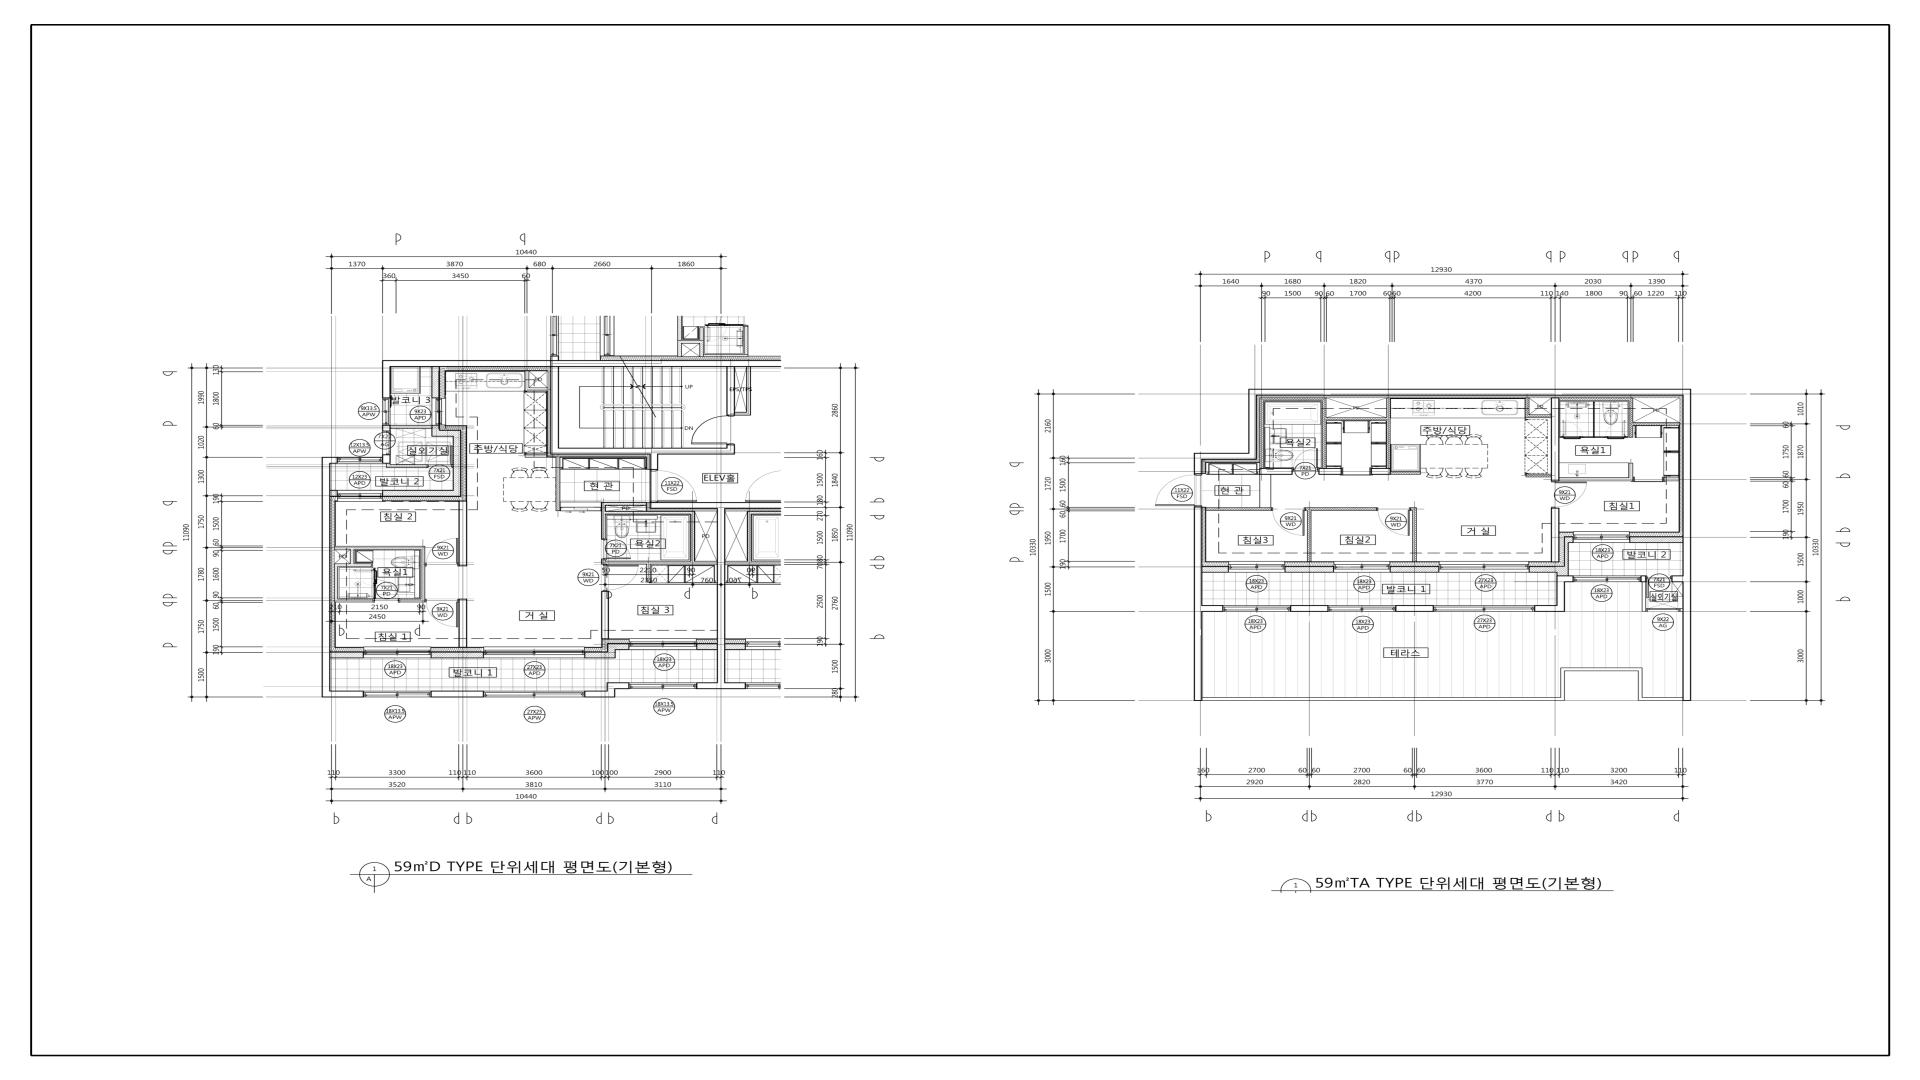door: (650, 469, 698, 502), (1155, 475, 1203, 506), (691, 415, 735, 444), (425, 599, 459, 628), (425, 538, 459, 567), (1551, 481, 1588, 508), (1377, 508, 1411, 535), (1271, 508, 1305, 535), (603, 564, 638, 591), (601, 538, 632, 559), (1292, 448, 1319, 472), (373, 579, 400, 603), (1646, 576, 1672, 599), (427, 446, 452, 468), (1605, 421, 1626, 438), (1563, 421, 1582, 438), (560, 506, 601, 512)
wall: (1257, 389, 1691, 396), (1683, 396, 1691, 702), (322, 463, 330, 698), (1193, 506, 1203, 702), (550, 360, 782, 367), (717, 509, 725, 690), (559, 448, 735, 455), (390, 360, 550, 367), (550, 367, 559, 455), (1551, 397, 1559, 481), (452, 436, 462, 497), (382, 489, 452, 497), (459, 501, 467, 566), (1249, 389, 1257, 452), (1551, 508, 1560, 562), (650, 502, 725, 509), (605, 560, 717, 564), (1203, 452, 1257, 460), (727, 367, 735, 415), (459, 599, 467, 647), (1386, 397, 1391, 468), (601, 591, 609, 638), (334, 546, 425, 550), (605, 510, 695, 514), (1321, 401, 1327, 468), (1630, 537, 1683, 543), (431, 691, 484, 698), (431, 651, 484, 658), (1390, 566, 1439, 572), (1284, 566, 1333, 572), (382, 360, 390, 398), (1559, 477, 1634, 481), (555, 456, 560, 512), (1556, 582, 1565, 612), (1259, 398, 1263, 468), (1395, 605, 1433, 612), (1290, 605, 1328, 612), (431, 367, 439, 398), (690, 514, 695, 560), (746, 367, 752, 411), (1530, 566, 1564, 572), (330, 691, 364, 698), (330, 651, 364, 658), (1259, 468, 1292, 475), (584, 691, 616, 698), (584, 651, 616, 658), (1193, 452, 1203, 475), (607, 682, 629, 691), (1307, 510, 1311, 562), (1412, 510, 1416, 562), (1559, 398, 1633, 401), (1629, 401, 1634, 438), (421, 550, 425, 599), (1305, 508, 1377, 510), (1634, 422, 1680, 426), (607, 644, 629, 651), (1207, 508, 1271, 510), (1564, 543, 1569, 575), (696, 682, 717, 690), (1263, 398, 1327, 401), (1203, 566, 1228, 572), (390, 425, 431, 429), (1327, 418, 1386, 421), (334, 599, 373, 603), (439, 430, 462, 436), (1319, 468, 1341, 475), (390, 464, 427, 468), (601, 502, 605, 538), (334, 563, 338, 599), (1203, 605, 1224, 612), (1535, 605, 1556, 612), (696, 644, 717, 650), (1556, 575, 1573, 583), (338, 563, 372, 567), (1371, 468, 1391, 475), (322, 456, 338, 464), (1391, 471, 1420, 475), (1642, 583, 1646, 612), (650, 455, 658, 469), (1524, 397, 1530, 418), (605, 502, 646, 505), (1526, 473, 1551, 477), (400, 599, 425, 603), (431, 425, 439, 436), (525, 454, 547, 458), (1530, 414, 1551, 418), (1672, 575, 1683, 583), (525, 371, 529, 392), (1629, 463, 1634, 477), (382, 455, 390, 464), (529, 388, 547, 392), (646, 564, 650, 583), (349, 550, 355, 563), (735, 411, 752, 415), (1663, 477, 1679, 481), (1564, 537, 1573, 543), (382, 425, 390, 431), (330, 491, 338, 497), (1593, 402, 1594, 436), (1640, 575, 1646, 583), (727, 444, 735, 448), (1582, 436, 1605, 438), (1556, 572, 1564, 575), (601, 559, 605, 564), (386, 463, 390, 468), (1410, 508, 1416, 510), (1680, 608, 1683, 612)
window: (484, 646, 584, 658), (1439, 562, 1530, 572), (363, 646, 431, 658), (629, 638, 696, 650), (1573, 531, 1630, 543), (1333, 560, 1390, 572), (1228, 560, 1284, 572), (1433, 605, 1535, 612), (484, 691, 584, 698), (338, 491, 382, 502), (1222, 605, 1291, 612), (1328, 605, 1395, 612), (364, 691, 431, 698), (629, 683, 696, 690), (431, 398, 446, 425), (1573, 576, 1640, 582), (338, 456, 382, 463), (382, 398, 390, 425), (382, 431, 390, 455), (1646, 608, 1680, 612)
